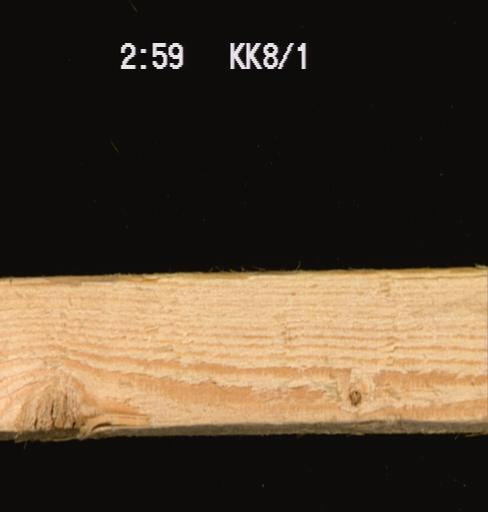dry_knot: (346, 386, 362, 406)
edge_knot: (12, 371, 113, 437)
